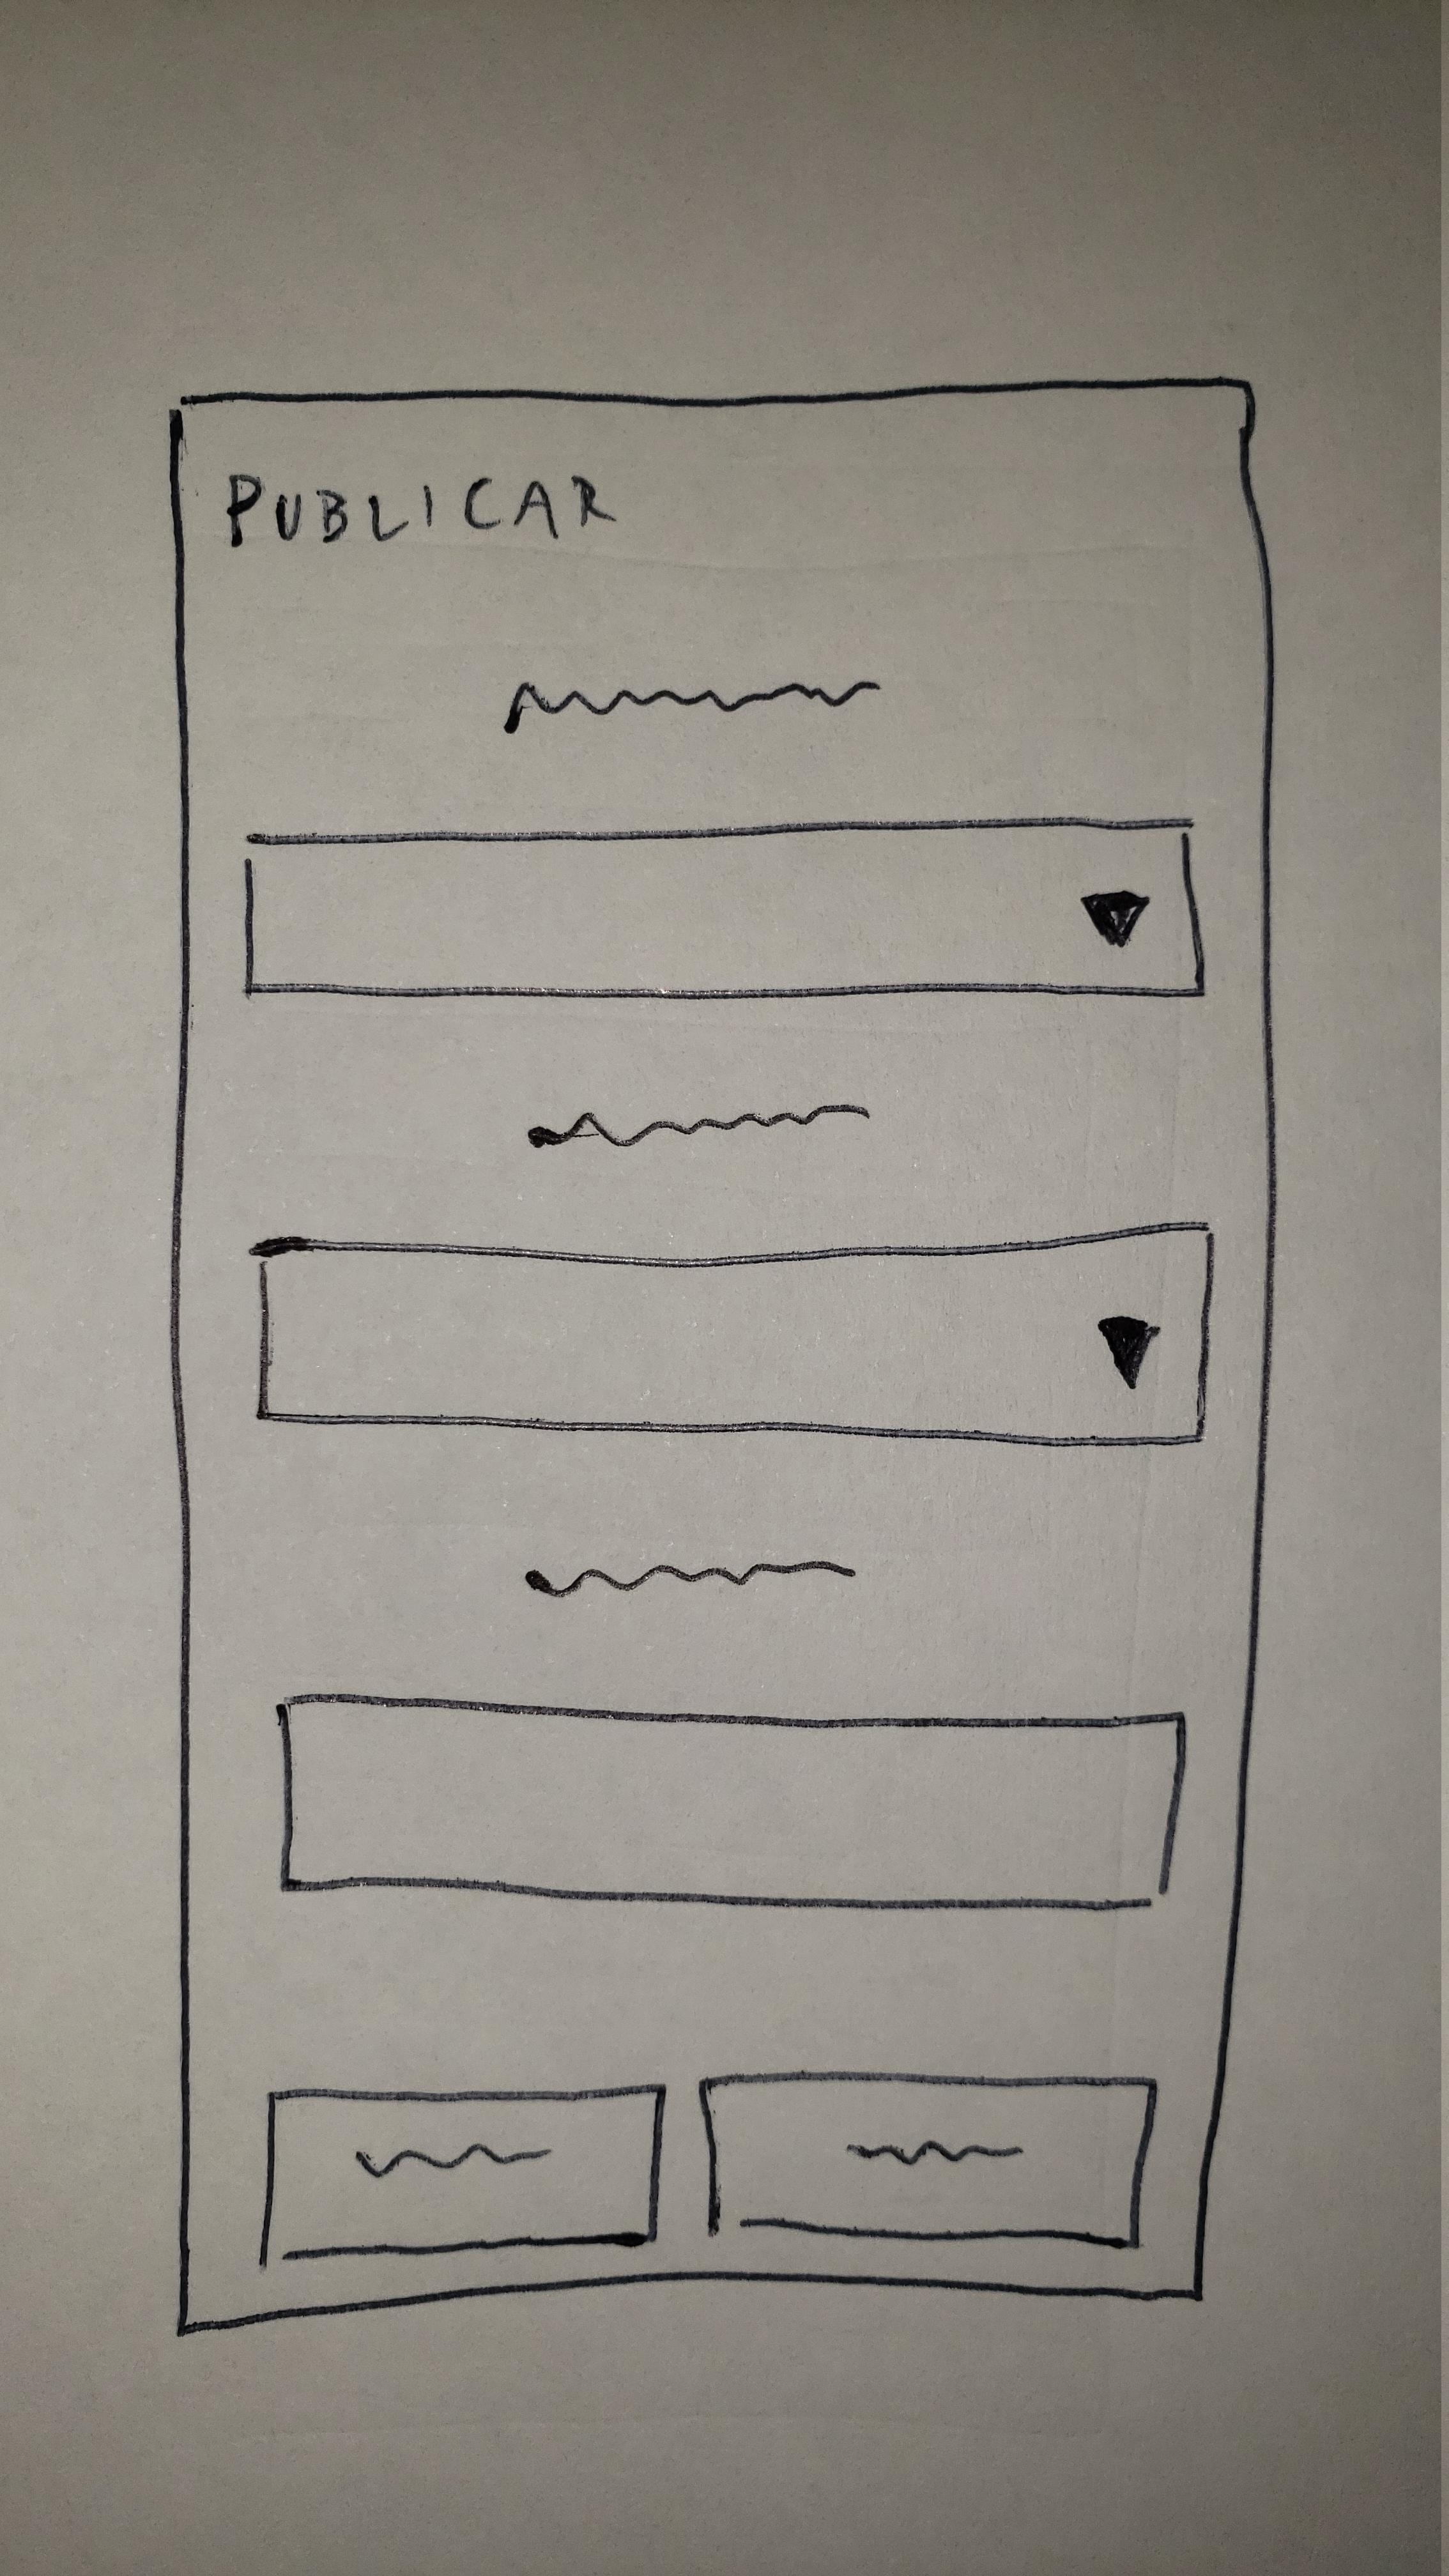Button: (699, 2074, 1161, 2249), (257, 2086, 665, 2266)
Label: (223, 472, 617, 548), (504, 678, 879, 734), (531, 1102, 872, 1146), (525, 1559, 855, 1598)
ListPicker: (251, 1221, 1219, 1445), (244, 816, 1207, 1000)
Screen: (166, 377, 1281, 2337)
TextBox: (272, 1691, 1187, 1909)
